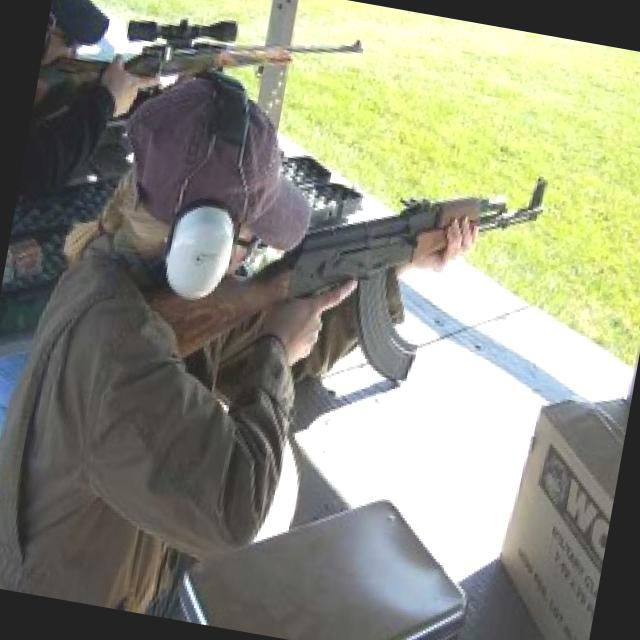long weapon: (232, 162, 567, 380)
